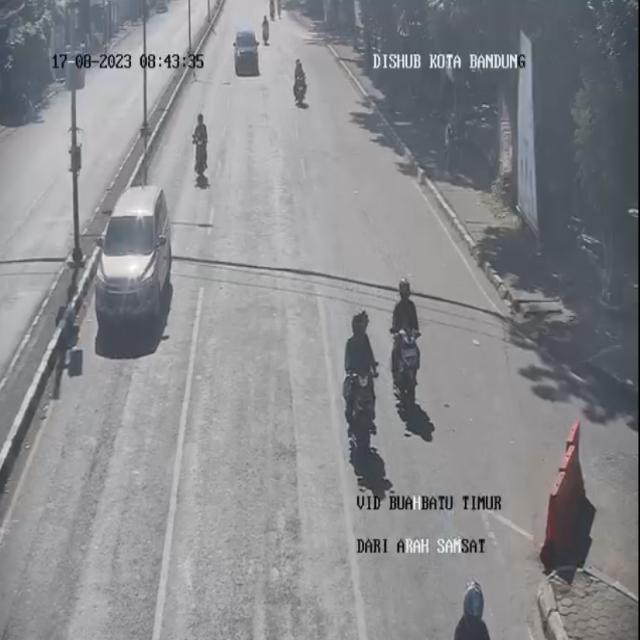cars: (96, 182, 171, 334), (234, 28, 262, 78)
motorcycle: (384, 283, 423, 428), (342, 311, 381, 431), (448, 575, 504, 640), (192, 111, 213, 188), (293, 54, 309, 111), (258, 12, 270, 43), (271, 0, 282, 25)
